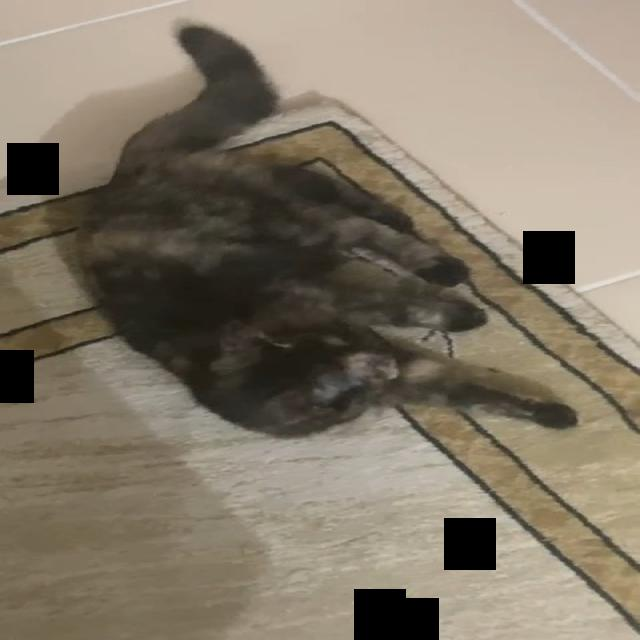authorized: (61, 19, 580, 439)
